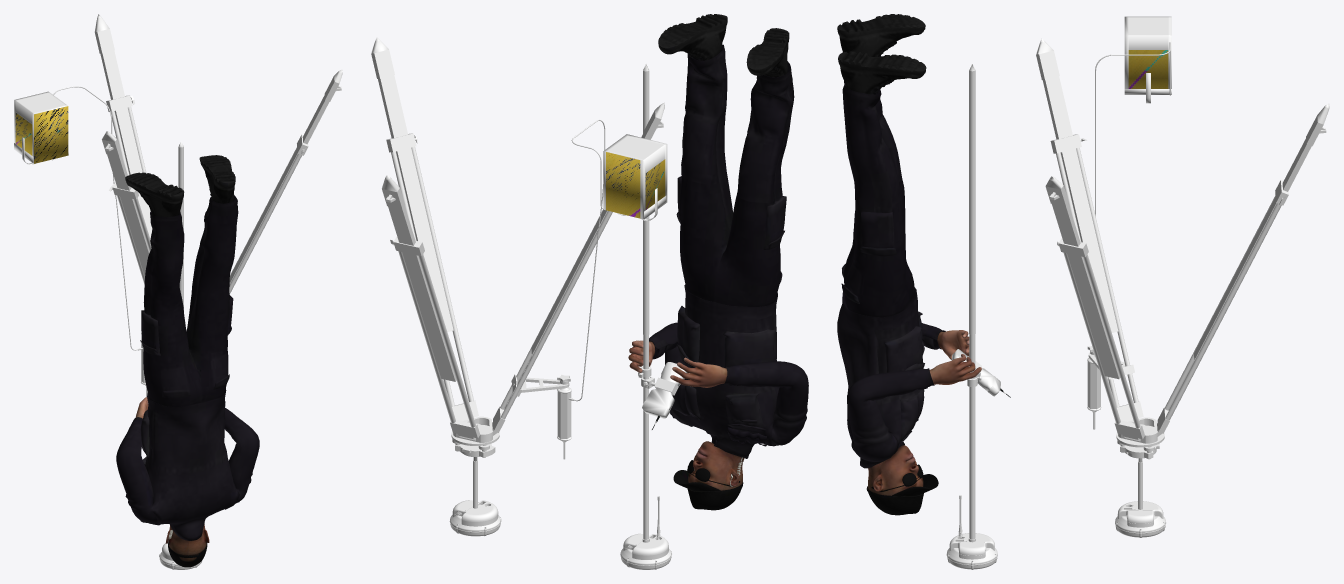
The picture shows the model from 3 angles, left to right: view 1: azimuth 30°, elevation 25°; view 2: azimuth 150°, elevation 25°; view 3: azimuth 270°, elevation 25°; orthographic projection. The views are drawn at different scales.
Visible parts, largest first — view 1: 3DGeom-142, 3DGeom-63, 3DGeom-61, 3DGeom-124, 3DGeom-123, 3DGeom-126, 3DGeom-129, 3DGeom-37; view 2: 3DGeom-142, 3DGeom-63, 3DGeom-61, 3DGeom-130, 3DGeom-123, 3DGeom-37, 3DGeom-2, 3DGeom-98, 3DGeom-32, 3DGeom-126, 3DGeom-129, 3DGeom-45 (+1 smaller); view 3: 3DGeom-142, 3DGeom-63, 3DGeom-61, 3DGeom-37, 3DGeom-127, 3DGeom-123, 3DGeom-2, 3DGeom-98, 3DGeom-32, 3DGeom-129, 3DGeom-70.
Part boxes in pixels (x1=…): 3DGeom-142: x1=116, y1=155, x2=259, y2=567; 3DGeom-63: x1=100, y1=50, x2=329, y2=293; 3DGeom-61: x1=94, y1=14, x2=342, y2=283; 3DGeom-124: x1=34, y1=106, x2=68, y2=163; 3DGeom-123: x1=14, y1=91, x2=67, y2=164; 3DGeom-126: x1=15, y1=113, x2=32, y2=155; 3DGeom-129: x1=17, y1=93, x2=63, y2=112; 3DGeom-37: x1=178, y1=147, x2=183, y2=309; 3DGeom-142: x1=628, y1=14, x2=808, y2=510; 3DGeom-63: x1=378, y1=75, x2=643, y2=427; 3DGeom-61: x1=371, y1=37, x2=664, y2=442; 3DGeom-130: x1=606, y1=152, x2=640, y2=218; 3DGeom-123: x1=603, y1=134, x2=667, y2=220; 3DGeom-37: x1=643, y1=70, x2=649, y2=335; 3DGeom-2: x1=643, y1=335, x2=648, y2=539; 3DGeom-98: x1=452, y1=500, x2=498, y2=526; 3DGeom-32: x1=623, y1=533, x2=668, y2=559; 3DGeom-126: x1=645, y1=159, x2=665, y2=209; 3DGeom-129: x1=608, y1=136, x2=662, y2=159; 3DGeom-45: x1=645, y1=362, x2=684, y2=411; 3DGeom-142: x1=837, y1=14, x2=981, y2=515; 3DGeom-63: x1=1042, y1=76, x2=1311, y2=428; 3DGeom-61: x1=1036, y1=38, x2=1329, y2=443; 3DGeom-37: x1=969, y1=70, x2=975, y2=334; 3DGeom-127: x1=1128, y1=50, x2=1168, y2=88; 3DGeom-123: x1=1124, y1=16, x2=1171, y2=103; 3DGeom-2: x1=969, y1=334, x2=975, y2=539; 3DGeom-98: x1=1117, y1=501, x2=1163, y2=527; 3DGeom-32: x1=949, y1=533, x2=994, y2=559; 3DGeom-129: x1=1128, y1=17, x2=1168, y2=34; 3DGeom-70: x1=1087, y1=361, x2=1100, y2=409.
Size of the model in its own units: 9.55 by 13.26 by 11.7.
26 materials, 9 textured.
